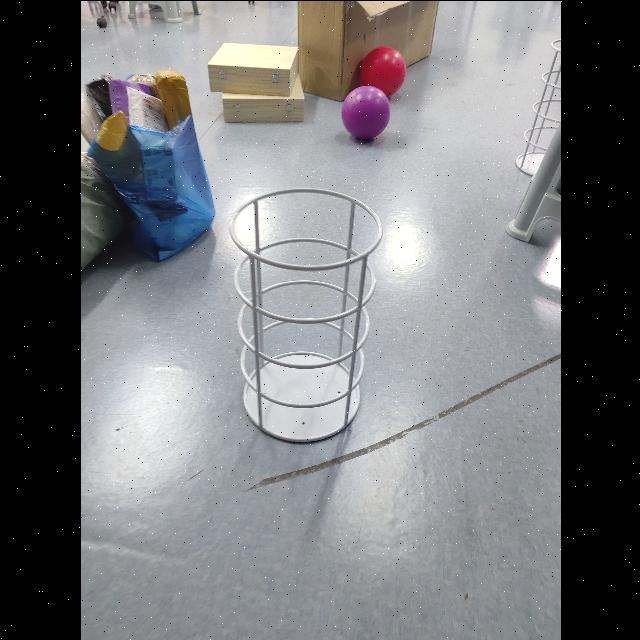S: (224, 185, 386, 445)
